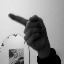g: (6, 12, 50, 52)
